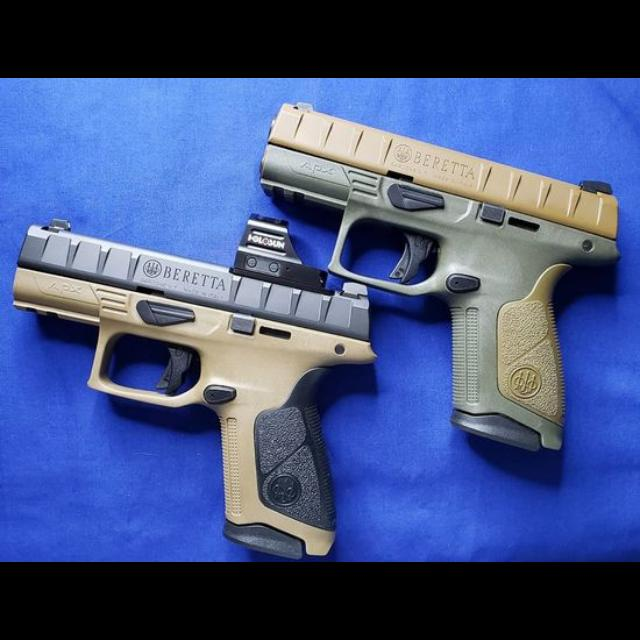handgun: (255, 96, 640, 462), (8, 214, 382, 562)
